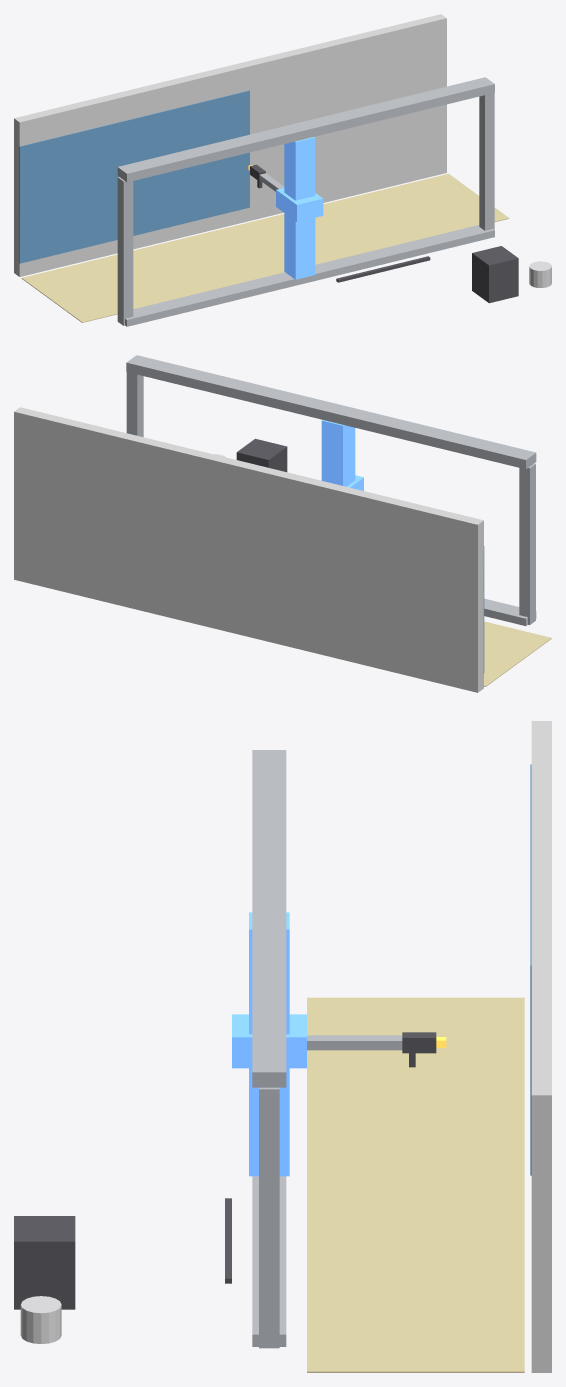
The model's file is wing-robot-airless-sprayer.glb.
3 views of the same model, one above another, from view 1: azimuth 30°, elevation 25°; view 2: azimuth 150°, elevation 25°; view 3: azimuth 270°, elevation 25° (orthographic). The views are drawn at different scales.
Parts seen in each view (by area): view 1: Robot · spray gun on a 3-axis carriage; view 2: Robot · spray gun on a 3-axis carriage; view 3: Robot · spray gun on a 3-axis carriage.
Part boxes in pixels (box(x1,y1,x2,y2)): Robot · spray gun on a 3-axis carriage: box(14, 14, 551, 326); Robot · spray gun on a 3-axis carriage: box(14, 355, 551, 692); Robot · spray gun on a 3-axis carriage: box(14, 721, 551, 1372).
Size of the model in its own units: 13 by 4.5 by 7.9.
